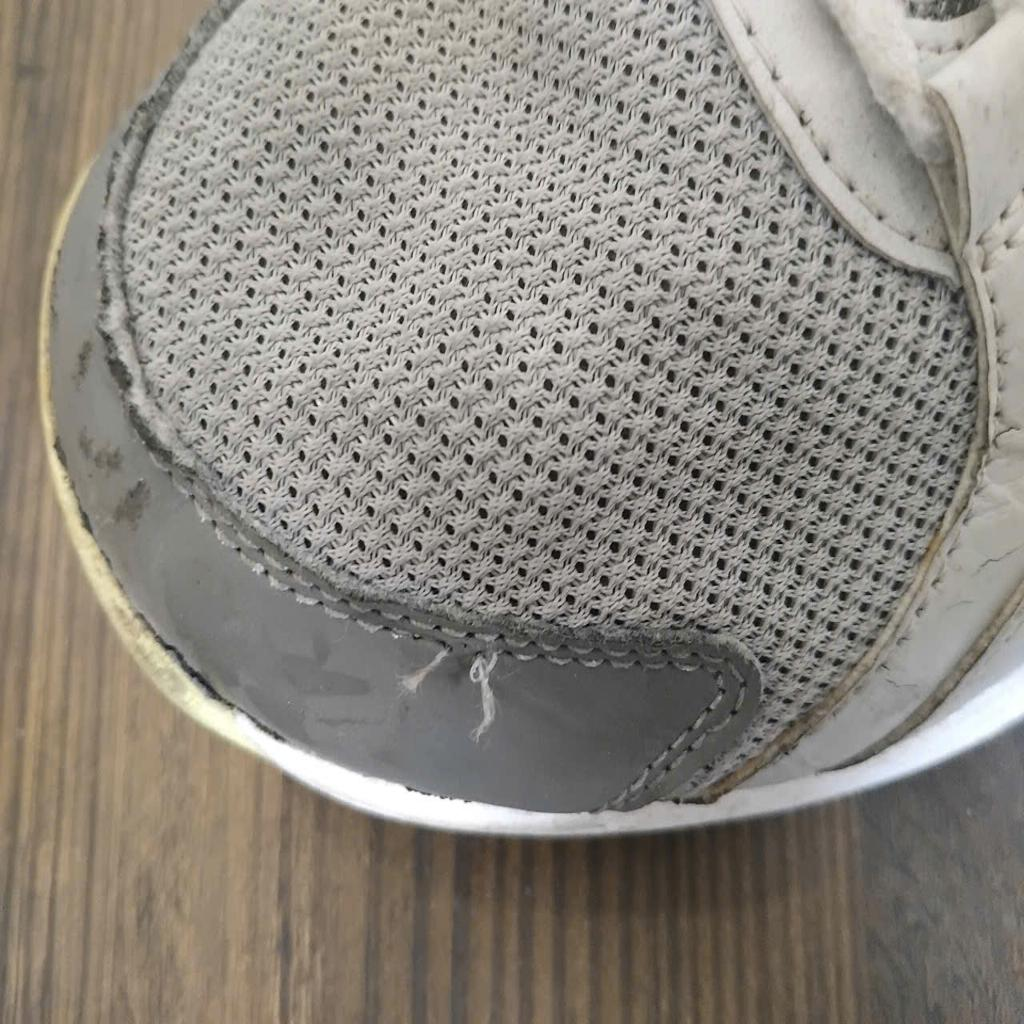broken: (422, 638, 499, 736)
